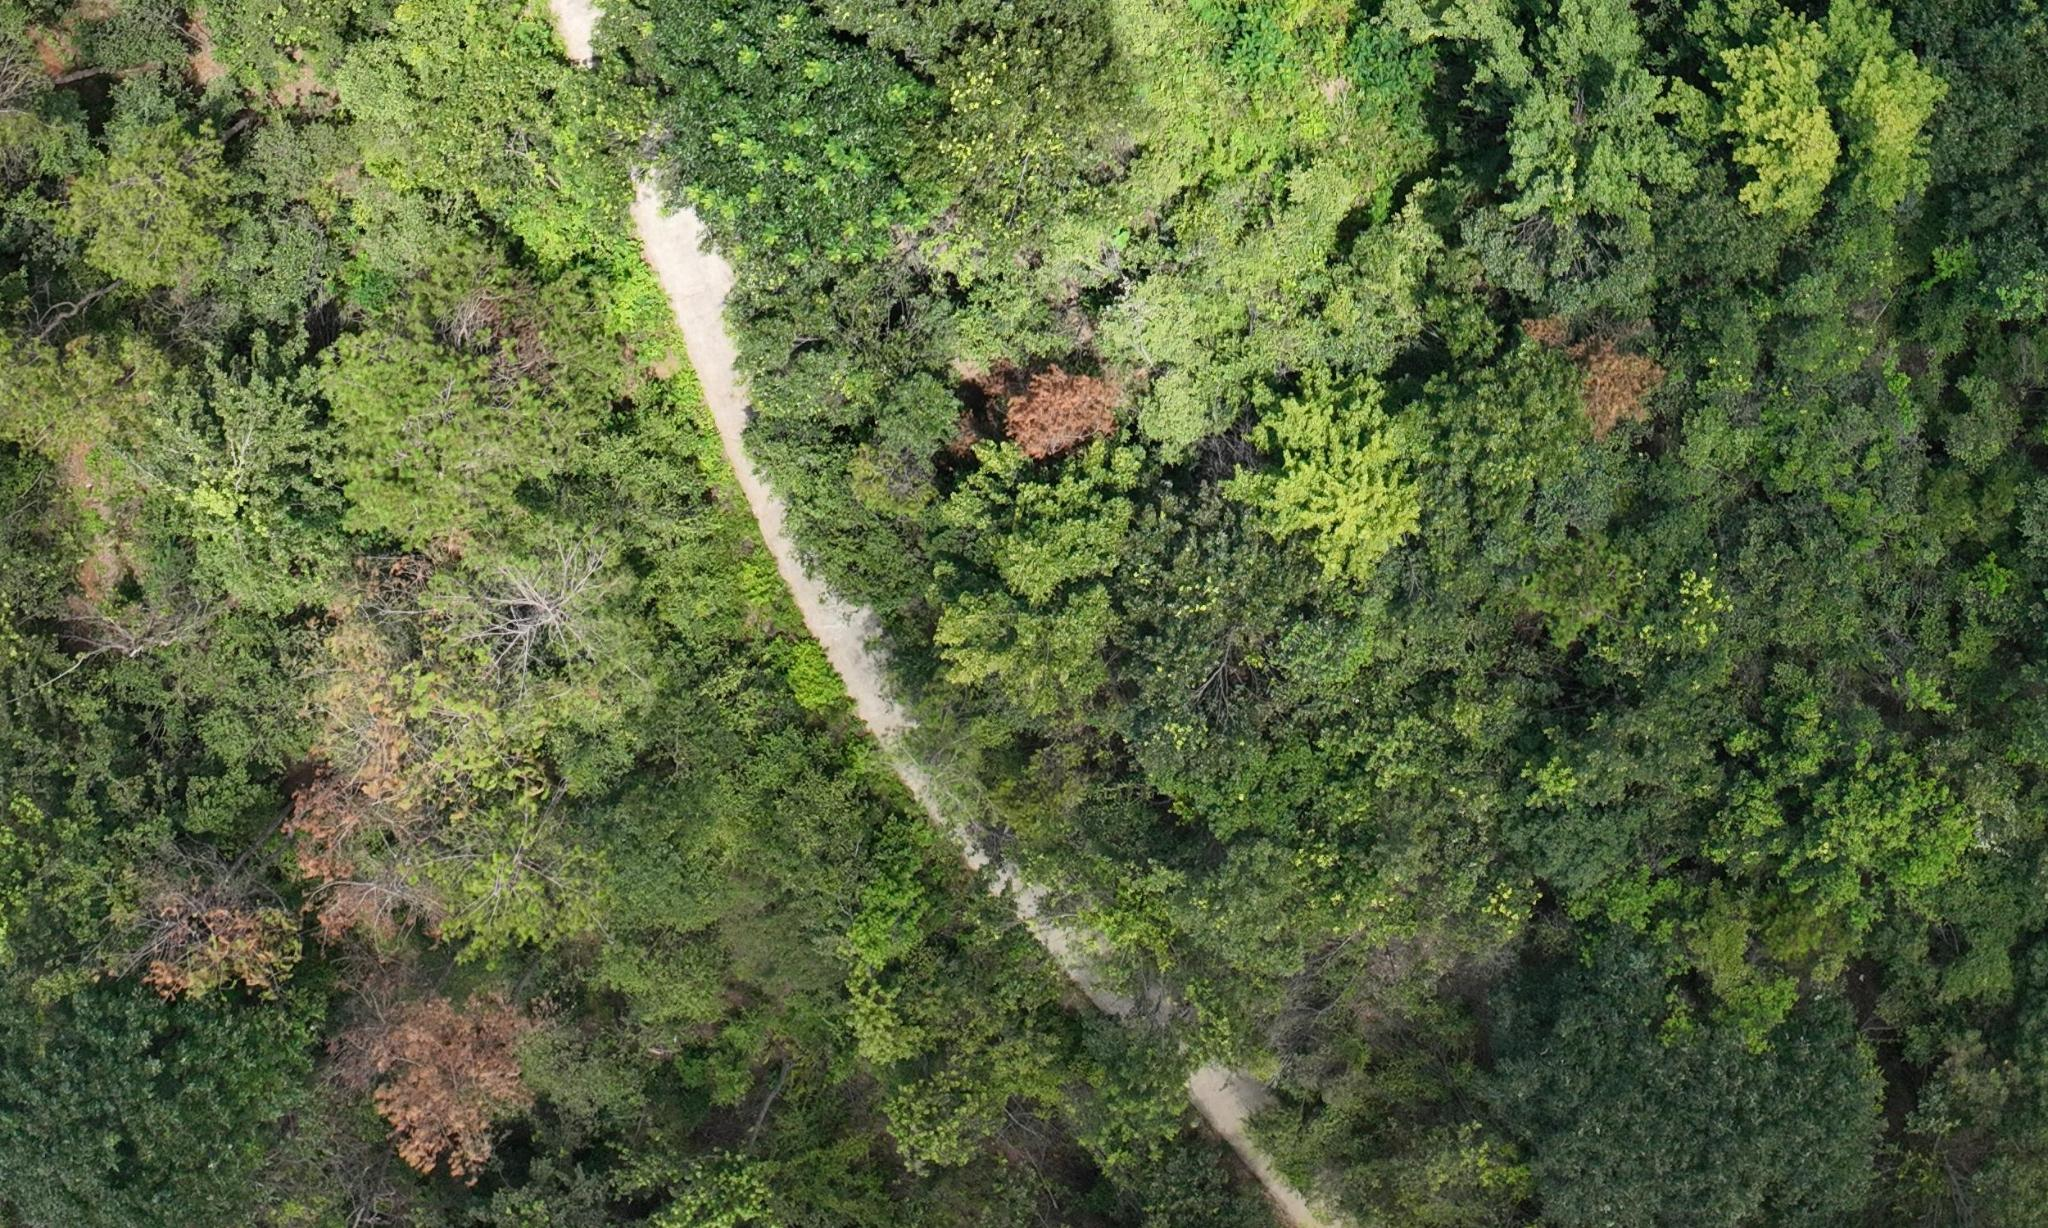heavy: (363, 994, 534, 1180), (298, 778, 433, 959), (142, 873, 288, 1017), (1539, 310, 1661, 434), (990, 358, 1117, 459)
